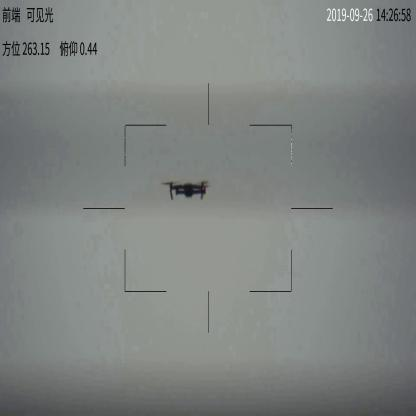uav: (162, 180, 214, 200)
